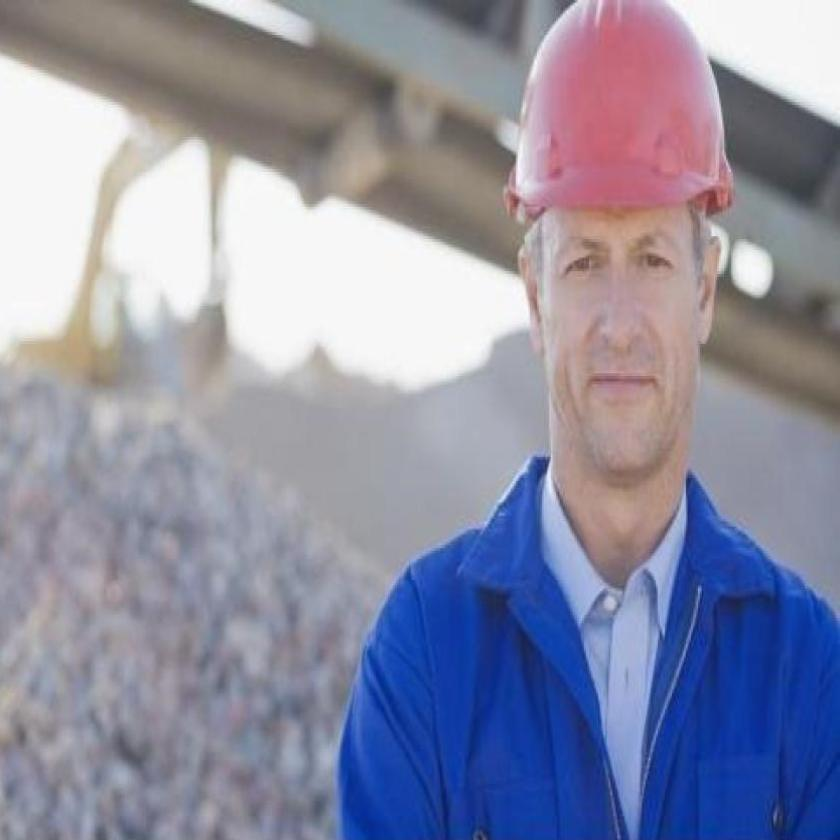Con_casco: (490, 0, 784, 543)
